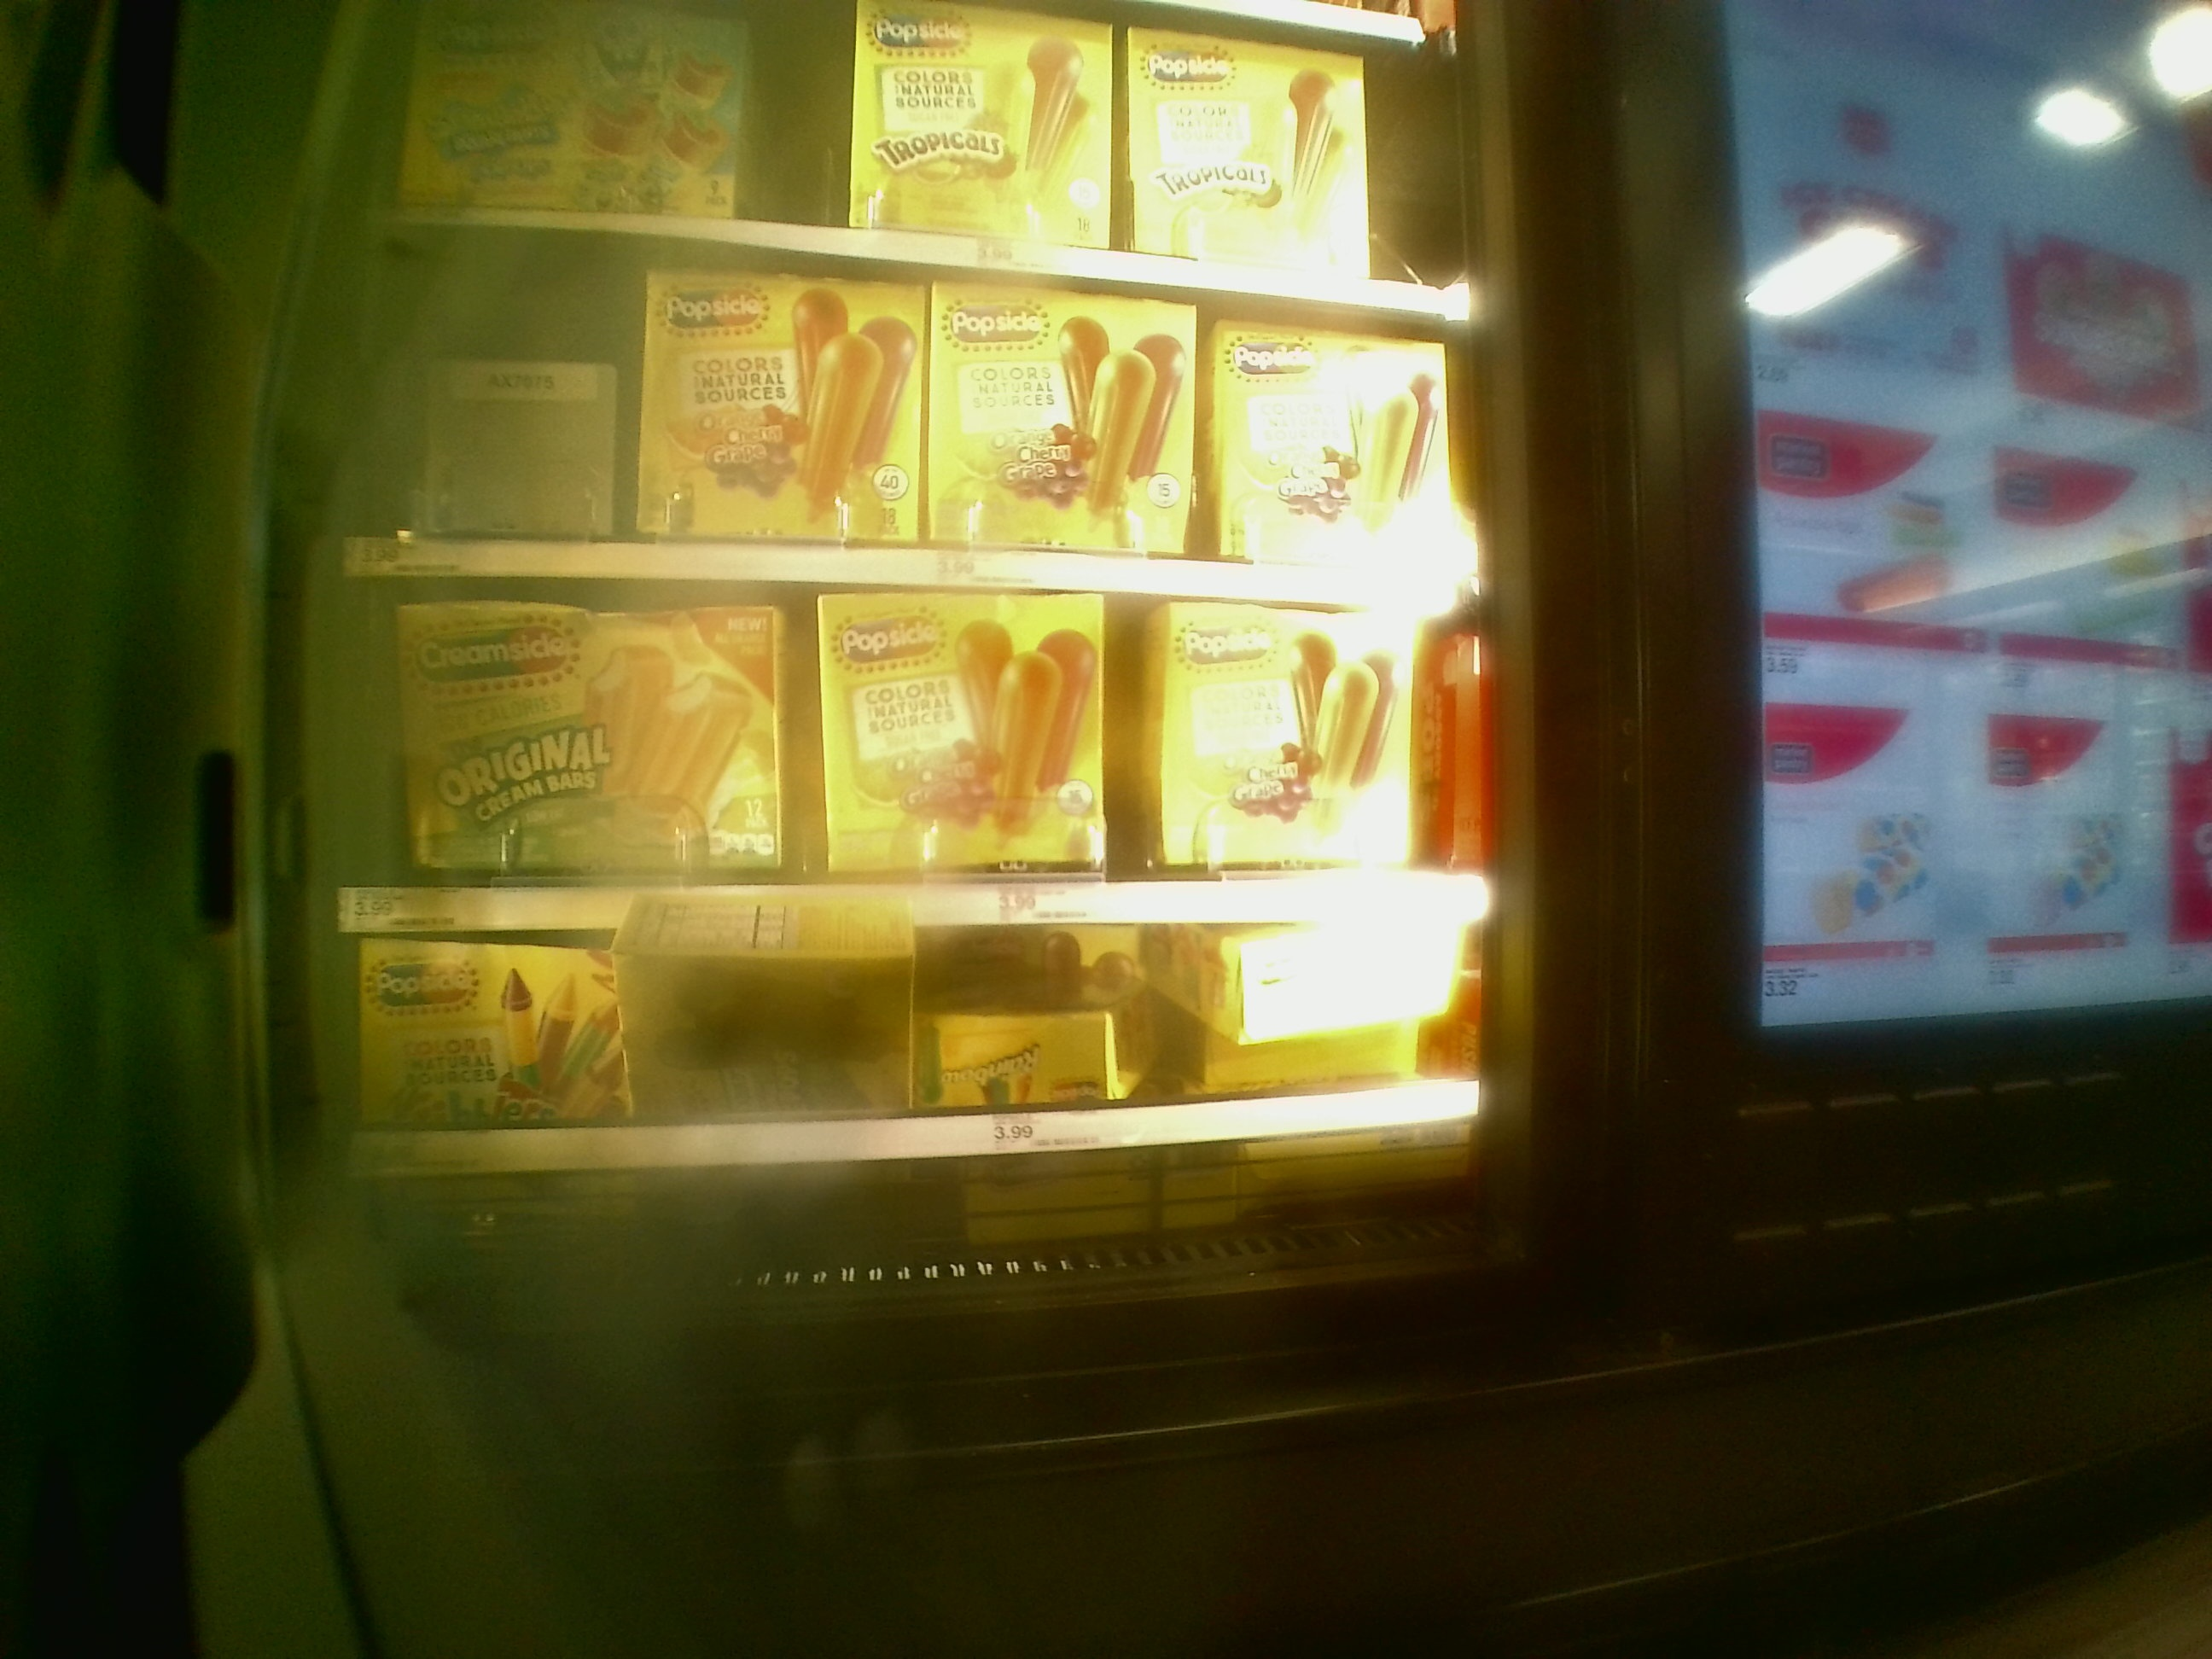shelf: (347, 575, 1503, 910), (361, 931, 1491, 1263)
